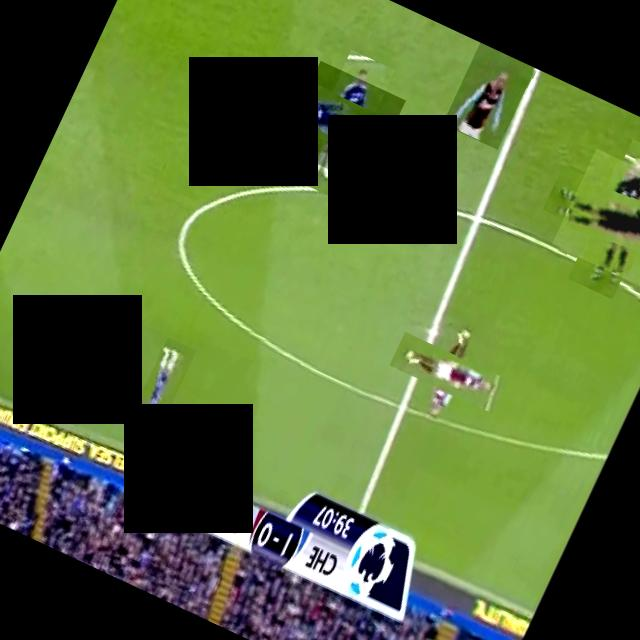referee: (551, 147, 640, 288)
soccer-player: (280, 60, 406, 186), (398, 322, 498, 422), (442, 42, 535, 148), (127, 336, 196, 434)
